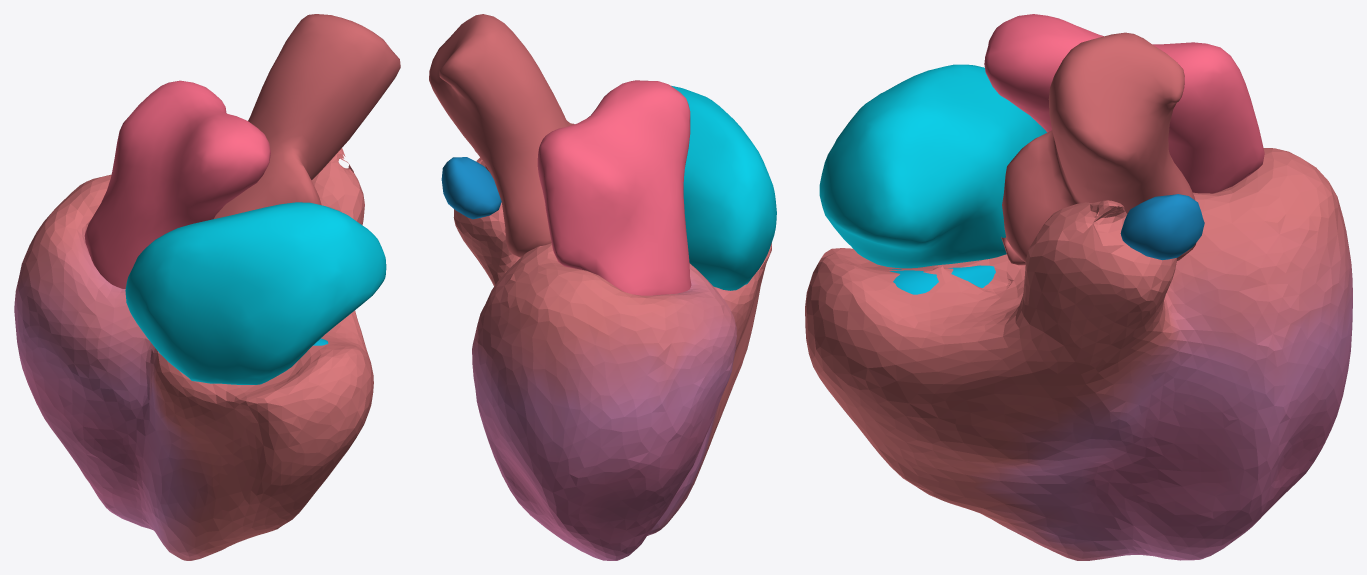
Rendered from frame_14.glb.
3 views of the same model, side by side, from view 1: azimuth 30°, elevation 25°; view 2: azimuth 150°, elevation 25°; view 3: azimuth 270°, elevation 25° (orthographic). The views are drawn at different scales.
Visible parts, largest first — view 1: Renderer Node; view 2: Renderer Node; view 3: Renderer Node.
Part boxes in pixels (x1=…): Renderer Node: x1=14, y1=14, x2=400, y2=560; Renderer Node: x1=429, y1=14, x2=776, y2=560; Renderer Node: x1=805, y1=14, x2=1352, y2=560.
Size of the model in its own units: 108 by 157 by 127.
